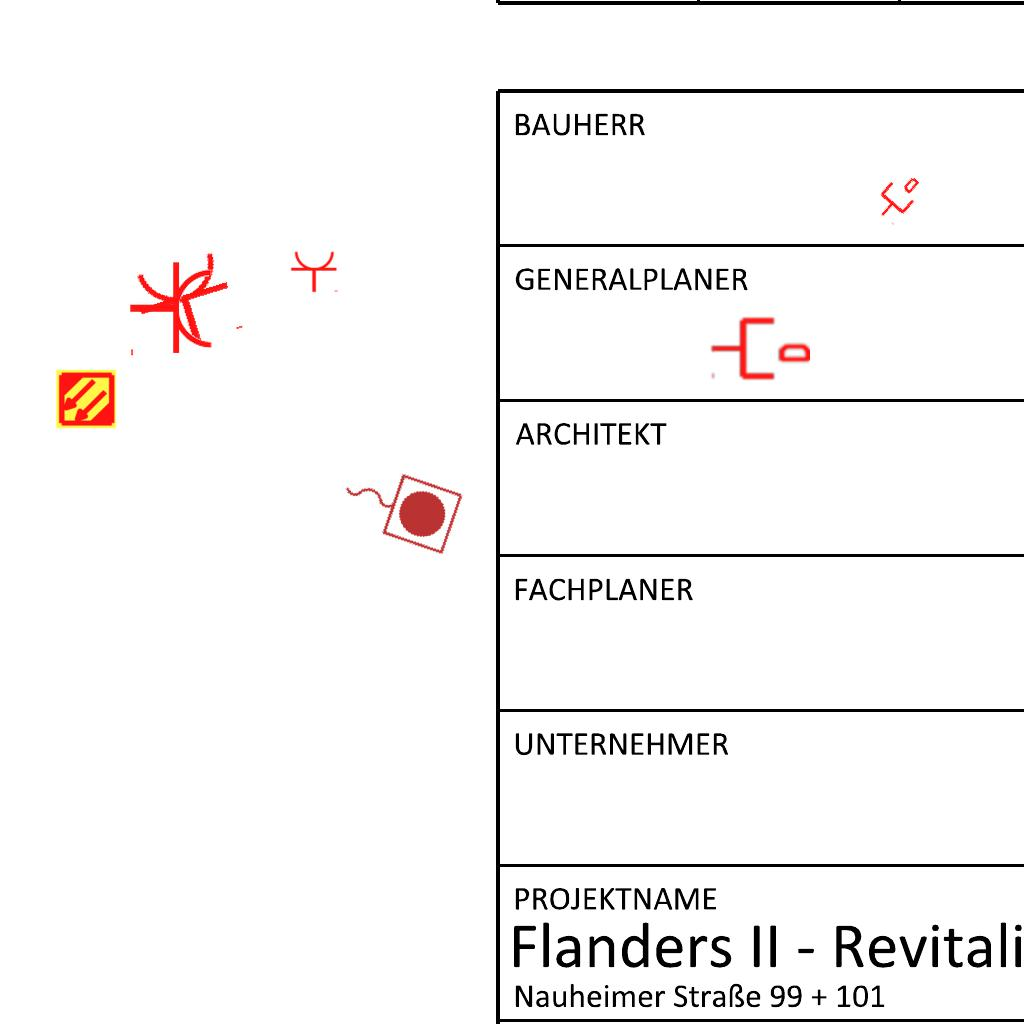ASR_Ansaugrauchmelder: (55, 368, 117, 430)
Datenanschluss_einfach: (710, 314, 810, 383), (868, 166, 928, 228)
Schukosteckdose_einfach: (126, 245, 249, 359), (128, 260, 215, 360), (290, 250, 340, 293)
Zugtaster: (329, 451, 469, 559)
